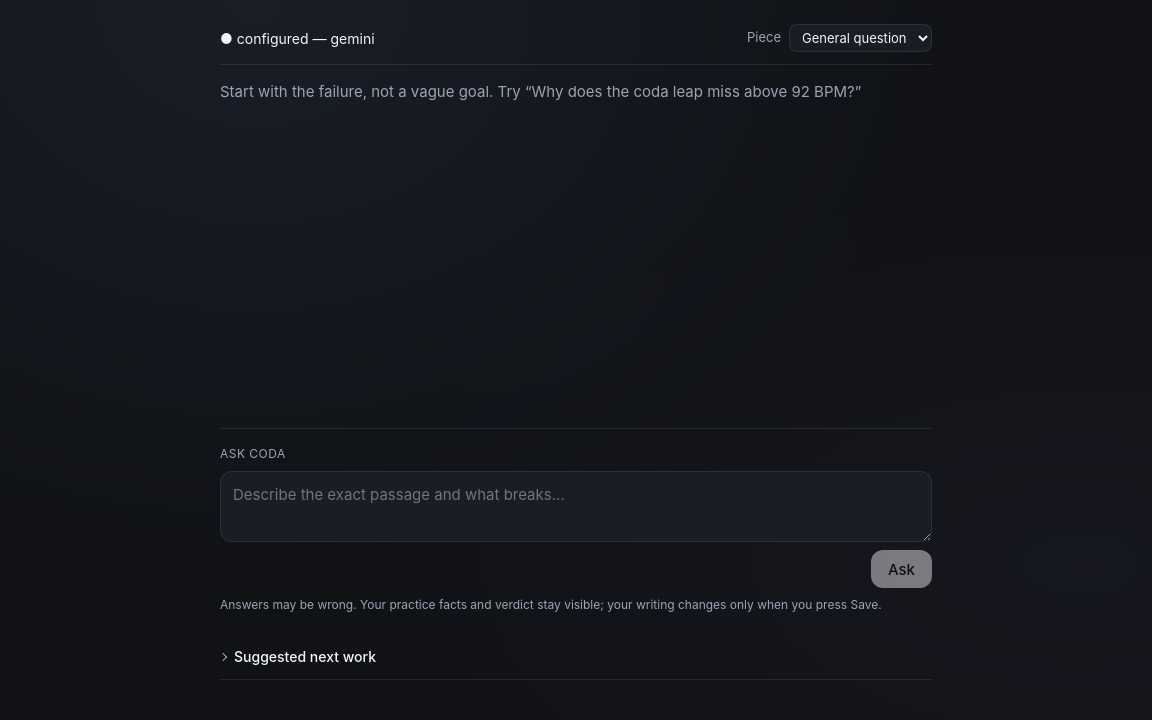
Scenario: BrainWorkspace › resumes durable prior turns when a piece is selected
This screenshot has width=1152, height=720.
Select "Scherzo No. 2" in the dropdown named "Piece thread" at [860, 38], box [789,24,932,52]
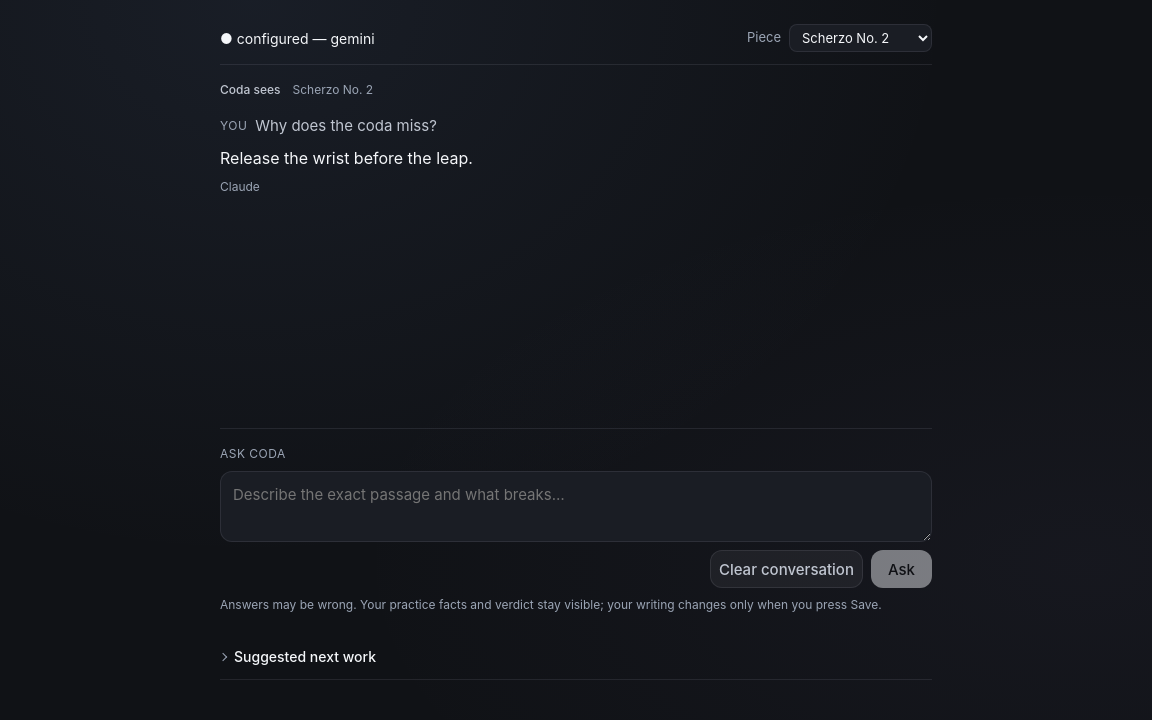
Expected: the text "Release the wrist before the leap." is shown, [220,148,473,168]
Expected: the text "Why does the coda miss?" is shown, [255,116,437,135]
